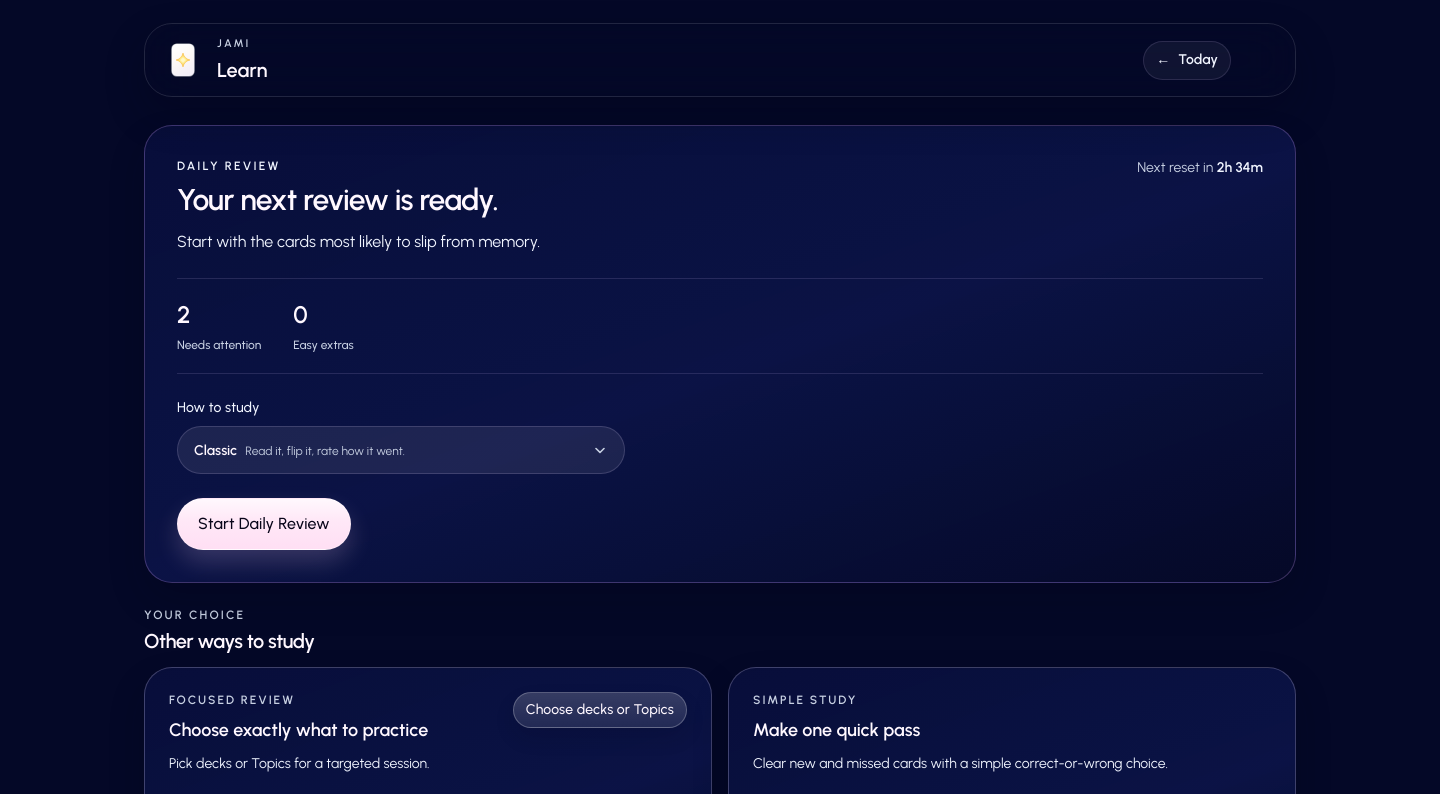
revealing a card › shows no rating controls before the reveal
The width and height of the screenshot is (1440, 794).
Click the button "Start Daily Review": (264, 524) left=177, top=498, right=351, bottom=550
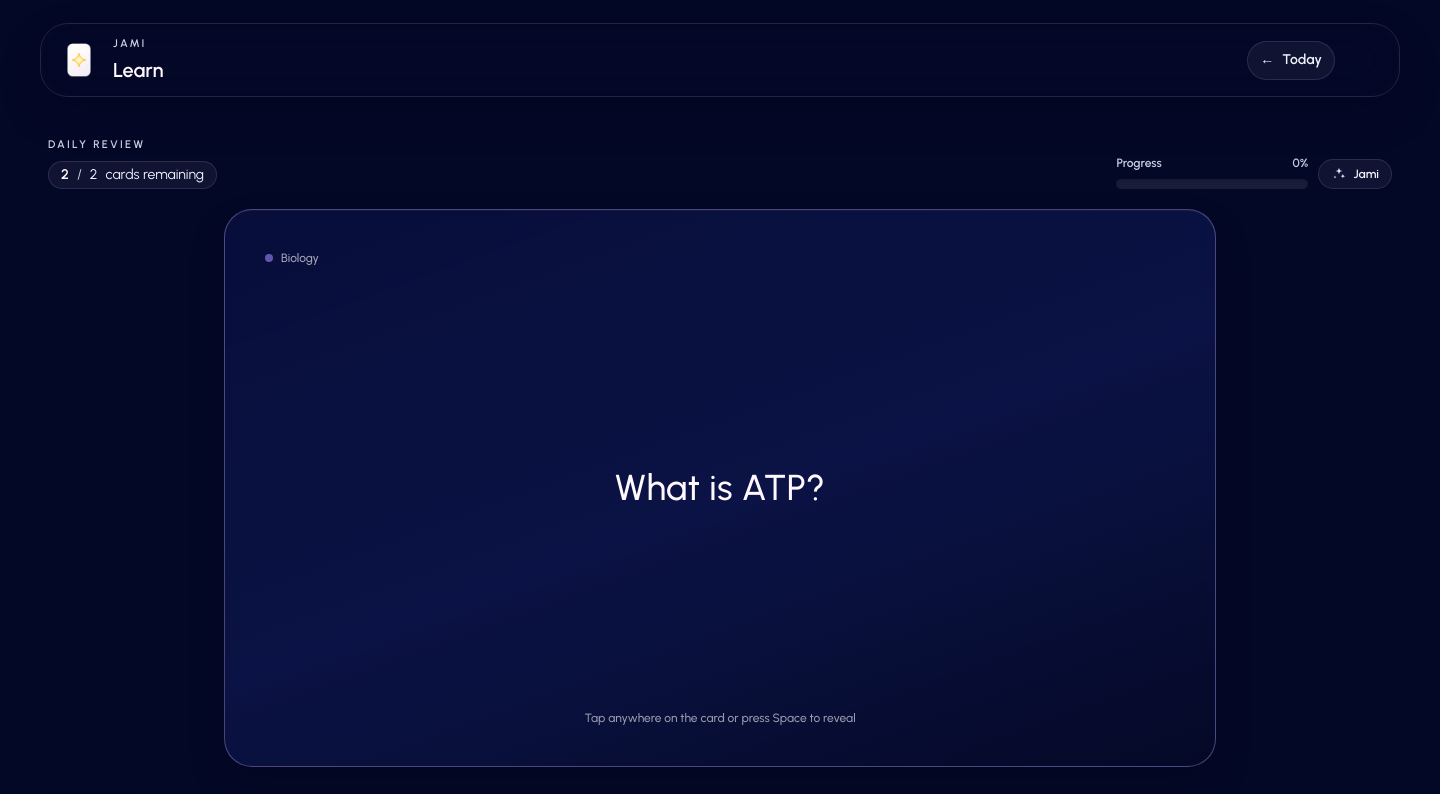
Expected: the button with aria-label "Flip flashcard" is shown
Click the button with aria-label "Flip flashcard": (720, 488) left=224, top=209, right=1216, bottom=767
(page scrolled)
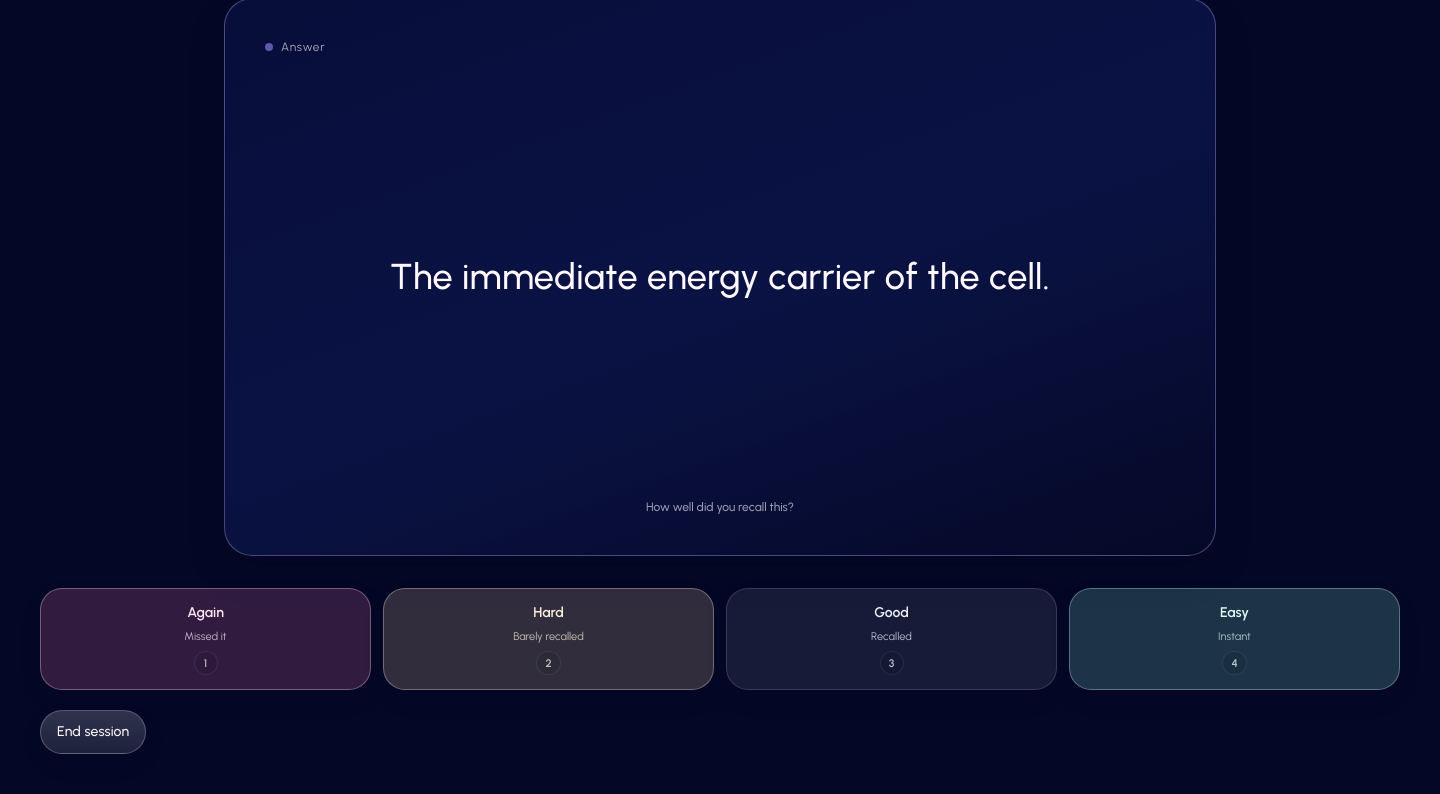
Expected: the button "Good Recalled 3" is shown, left=726, top=588, right=1057, bottom=690
